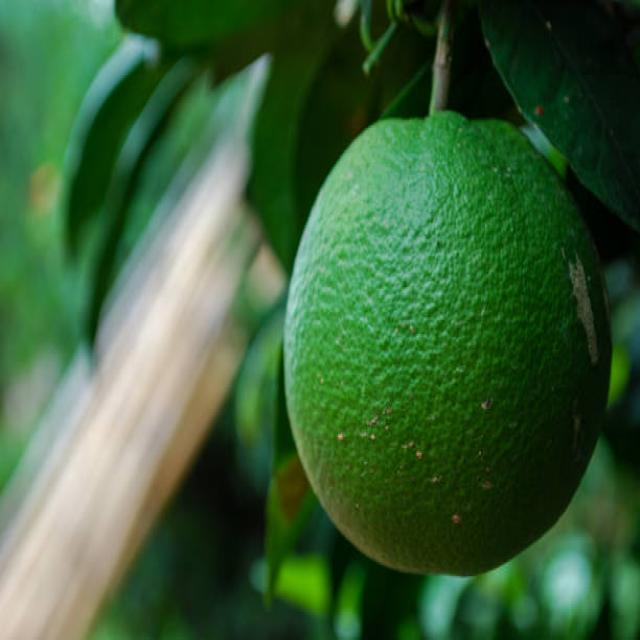Unripe: (283, 106, 609, 577)
